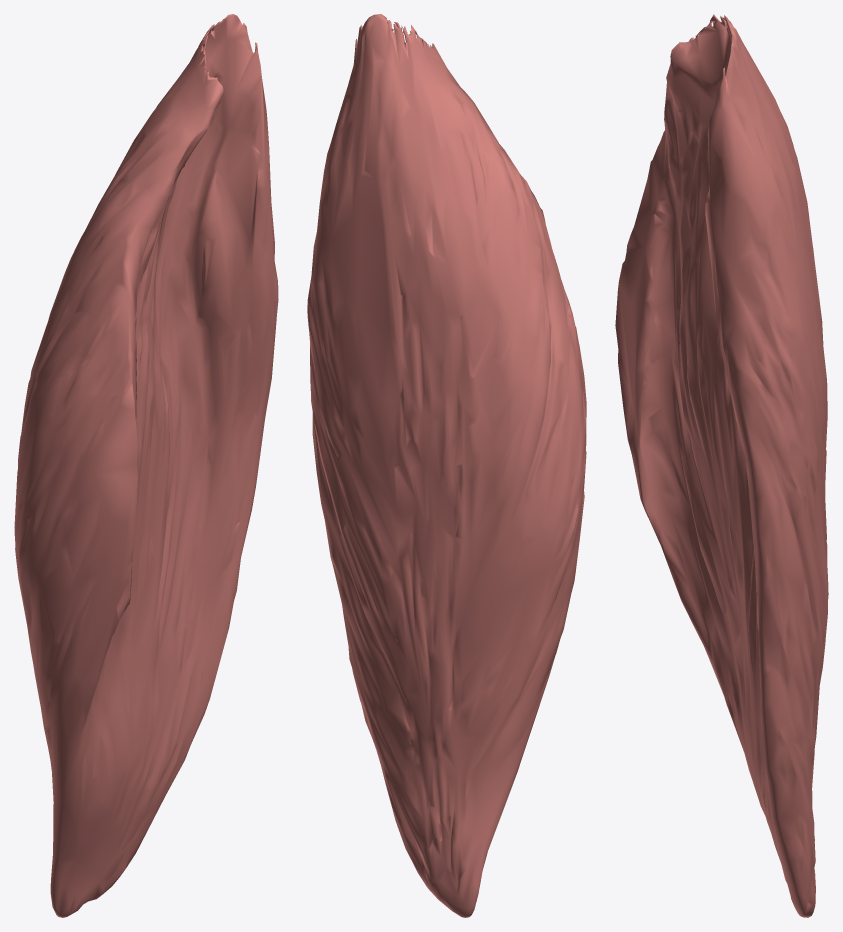
3 renders of one model, left to right at view 1: azimuth 30°, elevation 25°; view 2: azimuth 150°, elevation 25°; view 3: azimuth 270°, elevation 25°, orthographic. The views are drawn at different scales.
Visible parts, largest first — view 1: ZA_d82b0f2604b24938; view 2: ZA_d82b0f2604b24938; view 3: ZA_d82b0f2604b24938.
Boxes of the visible parts, left/top/right/bottom form: ZA_d82b0f2604b24938: left=14, top=14, right=278, bottom=917; ZA_d82b0f2604b24938: left=307, top=14, right=586, bottom=917; ZA_d82b0f2604b24938: left=615, top=14, right=828, bottom=917.
Bounding box in the file's own units: 0.0851 × 0.2758 × 0.0552.
